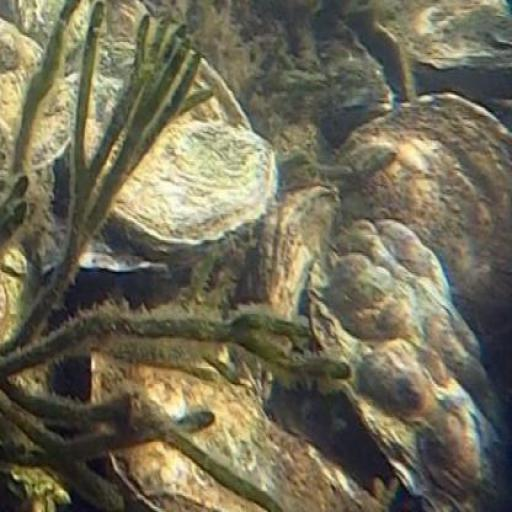Oyster-Closed: (312, 224, 512, 512), (90, 345, 383, 512), (335, 97, 512, 349), (80, 36, 283, 250), (266, 178, 343, 330), (1, 28, 77, 179)
